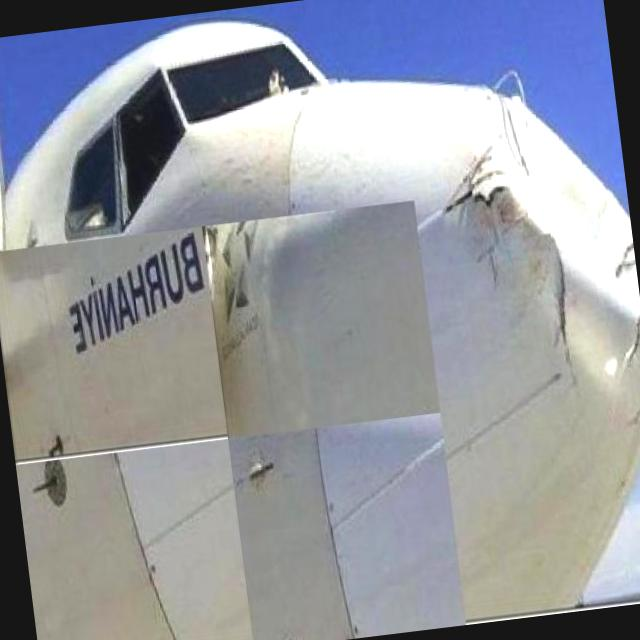dent: (415, 60, 637, 305)
